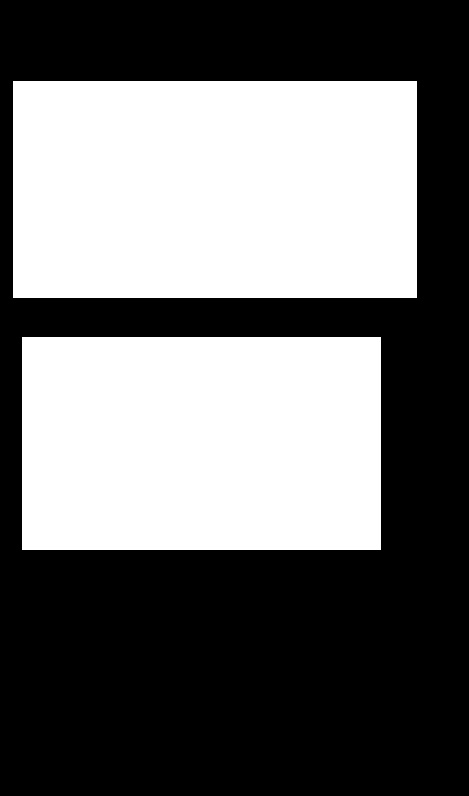table: (13, 81, 416, 297), (22, 337, 380, 549)
